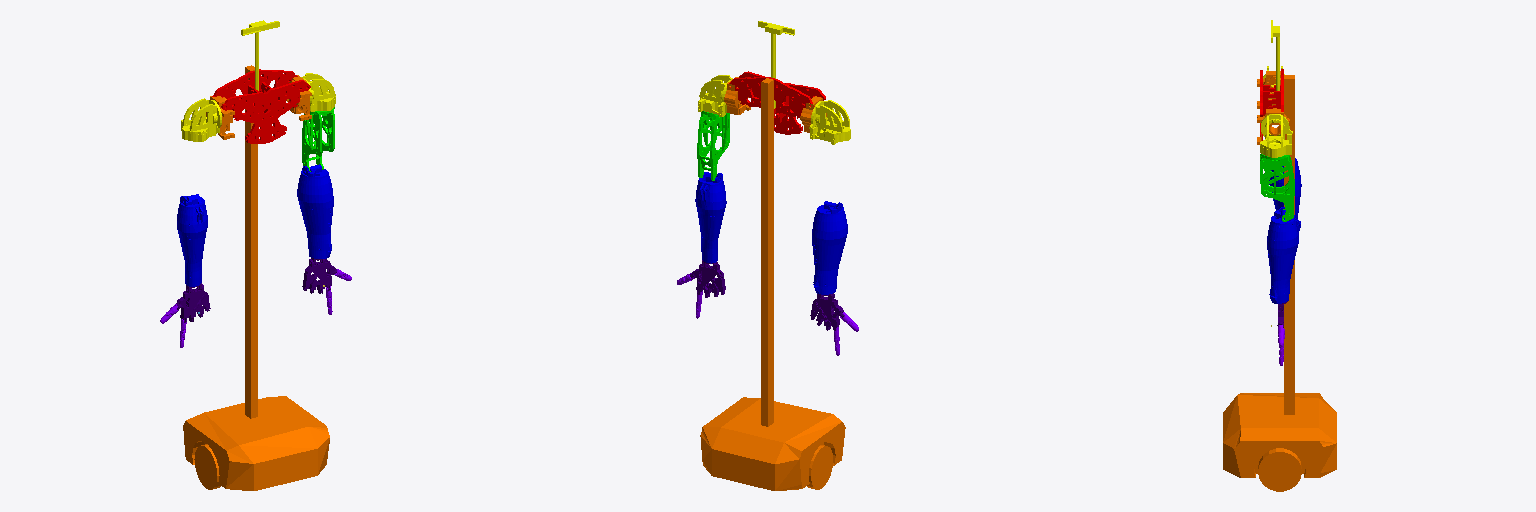
URDF robot description (robo_hand):
<?xml version="1.0" ?>
<!-- =================================================================================== -->
<!-- |    This document was autogenerated by xacro from robo_two_arms_camera.xacro     | -->
<!-- |    EDITING THIS FILE BY HAND IS NOT RECOMMENDED                                 | -->
<!-- =================================================================================== -->
<robot name="robo_hand" xmlns:xacro="http://ros.org/wiki/xacro">
  <!-- Define a number of dimensions using properties -->
  <!--property name="arm_offset_x" value="-0.143" /-->
  <!--property name="arm_offset_y" value="-0.032" /-->
  <!--property name="arm_offset_z" value="1.302" /-->
  <!-- Include all component files -->
  <!-- Materials -->
  <material name="red">
    <color rgba="1.0 0.0 0.0 0.8"/>
  </material>
  <material name="orange">
    <color rgba="1.0 0.5 0.0 0.8"/>
  </material>
  <material name="yellow">
    <color rgba="1.0 1.0 0.0 0.8"/>
  </material>
  <material name="green">
    <color rgba="0.0 1.0 0.0 0.8"/>
  </material>
  <material name="blue">
    <color rgba="0.0 0.0 1.0 0.8"/>
  </material>
  <material name="indigo">
    <color rgba="0.294 0.0 0.510 0.8"/>
  </material>
  <material name="violet">
    <color rgba="0.561 0.0 1.0 0.8"/>
  </material>
  <material name="realsensecolor">
    <color rgba="0.141 0.529 0.757 0.8"/>
  </material>
  <material name="Black">
    <color rgba="0.2 0.2 0.2 1.0"/>
  </material>
  <material name="TransparentBlack">
    <color rgba="0.2 0.2 0.2 0.8"/>
  </material>
  <material name="Orange">
    <color rgba="1.0  0.55 0.0 1.0"/>
  </material>
  <material name="Grey">
    <color rgba="0.7 0.7 0.7 1.0"/>
  </material>
  <material name="DarkGrey">
    <color rgba="0.3 0.3 0.3 1.0"/>
  </material>
  <material name="Red">
    <color rgba="0.8 0.0 0.0 1.0"/>
  </material>
  <material name="White">
    <color rgba="1.0 1.0 1.0 1.0"/>
  </material>
  <material name="OffWhite">
    <color rgba="0.8 0.8 0.8 1.0"/>
  </material>
  <material name="Blue">
    <color rgba="0.0 0.0 0.8 1.0"/>
  </material>
  <material name="Green">
    <color rgba="0.0 0.8 0.0 1.0"/>
  </material>
  <material name="TransparentGreen">
    <color rgba="0.0 0.8 0.0 0.5"/>
  </material>
  <!-- Variables  -->
  <!-- The base xacro macro -->
  <!-- Define a number of dimensions using properties -->
  <!-- Define the torso -->
  <!-- Define the camera -->
  <!-- Now we can start using the macros included above to define the actual robot -->
  <!-- Add the base and wheels -->
  <link name="base_link">
    <visual>
      <origin rpy="0 0 0" xyz="0 0 0"/>
      <geometry>
        <mesh filename="package://robo_description/meshes/base/vis/vis_basewheels_03.STL" scale="0.001 0.001 0.001"/>
      </geometry>
      <material name="orange"/>
    </visual>
    <collision>
      <origin rpy="0 0 0" xyz="0 0 0"/>
      <geometry>
        <mesh filename="package://robo_description/meshes/base/col/col_basewheels_03.STL" scale="0.001 0.001 0.001"/>
      </geometry>
    </collision>
  </link>
  <link name="base_footprint">
    <visual>
      <origin rpy="0 0 0" xyz="0 0 0"/>
      <geometry>
        <box size="0.05 0.05 0.001"/>
      </geometry>
      <material name="TransparentGreen"/>
    </visual>
  </link>
  <joint name="base_joint" type="fixed">
    <origin rpy="0 0 0" xyz="0.0 0.0 0.0"/>
    <parent link="base_footprint"/>
    <child link="base_link"/>
  </joint>
  <!-- Attach the torso -->
  <joint name="base_torso_joint" type="fixed">
    <origin rpy="0 0 0" xyz="0.0 -0.026 1.255"/>
    <parent link="base_link"/>
    <child link="torso_link"/>
  </joint>
  <link name="torso_link">
    <visual>
      <origin rpy="0 0 0" xyz="0 0 0"/>
      <geometry>
        <mesh filename="package://robo_description/meshes/torso/vis/vis_torso_03.STL" scale="0.001 0.001 0.001"/>
      </geometry>
      <material name="red"/>
    </visual>
    <collision>
      <origin rpy="0 0 0" xyz="0 0 0"/>
      <geometry>
        <mesh filename="package://robo_description/meshes/torso/col/col_torso_03.STL" scale="0.001 0.001 0.001"/>
      </geometry>
    </collision>
  </link>
  <!-- Attach the camera -->
  <joint name="torso_head_base_joint" type="fixed">
    <origin rpy="0 0 3.14159" xyz="0.0 0.0 0.0"/>
    <parent link="torso_link"/>
    <child link="head_base_link"/>
  </joint>
  <link name="head_base_link">
    <visual>
      <origin rpy="0 0 0" xyz="0 0 0"/>
      <geometry>
        <mesh filename="package://robo_description/meshes/camera/vis/vis_camera_03.STL" scale="0.001 0.001 0.001"/>
      </geometry>
      <material name="yellow"/>
    </visual>
    <collision>
      <origin rpy="0 0 0" xyz="0 0 0"/>
      <geometry>
        <mesh filename="package://robo_description/meshes/camera/col/col_camera_03.STL" scale="0.001 0.001 0.001"/>
      </geometry>
    </collision>
  </link>
  <!-- Depth and RGB frames for tf transform trees -->
  <!-- *Need to update values to reflect RealSense/arrangement -->
  <joint name="head_base_depth_joint" type="fixed">
    <origin rpy="0 0 0" xyz="0 0.0 0.268"/>
    <parent link="head_base_link"/>
    <child link="head_base_depth_frame"/>
  </joint>
  <link name="head_base_depth_frame">
    <inertial>
      <mass value="0.000001"/>
      <origin xyz="0 0 0"/>
      <inertia ixx="0.0001" ixy="0.0" ixz="0.0" iyy="0.0001" iyz="0.0" izz="0.0001"/>
    </inertial>
  </link>
  <joint name="head_base_depth_optical_joint" type="fixed">
    <origin rpy="-1.570795 0 -1.570795" xyz="0 0 0"/>
    <parent link="head_base_depth_frame"/>
    <child link="head_base_depth_optical_frame"/>
  </joint>
  <link name="head_base_depth_optical_frame">
    <inertial>
      <mass value="0.000001"/>
      <origin xyz="0 0 0"/>
      <inertia ixx="0.0001" ixy="0.0" ixz="0.0" iyy="0.0001" iyz="0.0" izz="0.0001"/>
    </inertial>
  </link>
  <joint name="head_base_rgb_joint" type="fixed">
    <origin rpy="0 0 0" xyz="0.05 0 0.268"/>
    <parent link="head_base_link"/>
    <child link="head_base_rgb_frame"/>
  </joint>
  <link name="head_base_rgb_frame">
    <inertial>
      <mass value="0.000001"/>
      <origin xyz="0 0 0"/>
      <inertia ixx="0.0001" ixy="0.0" ixz="0.0" iyy="0.0001" iyz="0.0" izz="0.0001"/>
    </inertial>
  </link>
  <joint name="head_base_rgb_optical_joint" type="fixed">
    <origin rpy="-1.570795 0 -1.570795" xyz="0 0 0"/>
    <parent link="head_base_rgb_frame"/>
    <child link="head_base_rgb_optical_frame"/>
  </joint>
  <link name="head_base_rgb_optical_frame">
    <inertial>
      <mass value="0.000001"/>
      <origin xyz="0 0 0"/>
      <inertia ixx="0.0001" ixy="0.0" ixz="0.0" iyy="0.0001" iyz="0.0" izz="0.0001"/>
    </inertial>
  </link>
  <!-- Attach the right arm -->
  <!-- arm base joint -->
  <link name="right_arm_base_link"/>
  <joint name="right_arm_base_joint" type="fixed">
    <origin rpy="0 0 0" xyz="-0.143 0.0055 0.047"/>
    <parent link="torso_link"/>
    <child link="right_arm_base_link"/>
  </joint>
  <!-- Shoulder_A -->
  <link name="right_arm_shouldera_link">
    <visual>
      <origin rpy="0 0 0" xyz="0 0 0"/>
      <geometry>
        <mesh filename="package://robo_description/meshes/arm/vis/vis_right_shouldera_03.STL" scale="0.001 0.001 0.001"/>
      </geometry>
      <material name="orange"/>
    </visual>
    <collision>
      <origin rpy="0 0 0" xyz="0 0 0"/>
      <geometry>
        <mesh filename="package://robo_description/meshes/arm/col/col_right_shouldera_03.STL" scale="0.001 0.001 0.001"/>
      </geometry>
    </collision>
  </link>
  <joint name="right_arm_out_joint" type="revolute">
    <axis xyz="0 1.0 0"/>
    <origin rpy="0 0 0" xyz="0 0 0"/>
    <limit effort="1000.0" lower="0.0" upper="1.5707963" velocity="0.5"/>
    <parent link="right_arm_base_link"/>
    <child link="right_arm_shouldera_link"/>
  </joint>
  <!-- Shoulder_B -->
  <link name="right_arm_shoulderb_link">
    <visual>
      <origin rpy="0 0 0" xyz="0 0 0"/>
      <geometry>
        <mesh filename="package://robo_description/meshes/arm/vis/vis_right_shoulderb_03.STL" scale="0.001 0.001 0.001"/>
      </geometry>
      <material name="yellow"/>
    </visual>
    <collision>
      <origin rpy="0 0 0" xyz="0 0 0"/>
      <geometry>
        <mesh filename="package://robo_description/meshes/arm/col/col_right_shoulderb_03.STL" scale="0.001 0.001 0.001"/>
      </geometry>
    </collision>
  </link>
  <joint name="right_arm_fwd_joint" type="revolute">
    <axis xyz="-1 0 0"/>
    <origin rpy="0 0 0" xyz="-0.012 0.005 -0.04"/>
    <limit effort="1000.0" lower="0.0" upper="1.570795" velocity="0.5"/>
    <parent link="right_arm_shouldera_link"/>
    <child link="right_arm_shoulderb_link"/>
  </joint>
  <!-- Biceps -->
  <link name="right_arm_biceps_link">
    <visual>
      <origin rpy="0 0 0" xyz="0 0 0"/>
      <geometry>
        <mesh filename="package://robo_description/meshes/arm/vis/vis_right_biceps_03.STL" scale="0.001 0.001 0.001"/>
      </geometry>
      <material name="green"/>
    </visual>
    <collision>
      <origin rpy="0 0 0" xyz="0 0 0"/>
      <geometry>
        <mesh filename="package://robo_description/meshes/arm/col/col_right_biceps_03.STL" scale="0.001 0.001 0.001"/>
      </geometry>
    </collision>
  </link>
  <joint name="right_arm_rotate_joint" type="revolute">
    <axis xyz="0 0 -1"/>
    <origin rpy="0 0 0" xyz="-0.06 0 -0.059"/>
    <limit effort="1000.0" lower="-1.570795" upper="1.570795" velocity="0.5"/>
    <parent link="right_arm_shoulderb_link"/>
    <child link="right_arm_biceps_link"/>
  </joint>
  <!-- Forearm -->
  <link name="right_arm_forearm_link">
    <visual>
      <origin rpy="0 0 0" xyz="0 0 0"/>
      <geometry>
        <mesh filename="package://robo_description/meshes/arm/vis/vis_right_forearm_03.STL" scale="0.001 0.001 0.001"/>
      </geometry>
      <material name="blue"/>
    </visual>
    <collision>
      <origin rpy="0 0 0" xyz="0 0 0"/>
      <geometry>
        <mesh filename="package://robo_description/meshes/arm/col/col_right_forearm_03.STL" scale="0.001 0.001 0.001"/>
      </geometry>
    </collision>
  </link>
  <joint name="right_elbow_joint" type="revolute">
    <axis xyz="-1 0 0"/>
    <origin rpy="0 0 0" xyz="0 0.029 -0.225"/>
    <limit effort="1000.0" lower="0.0" upper="1.570795" velocity="0.5"/>
    <parent link="right_arm_biceps_link"/>
    <child link="right_arm_forearm_link"/>
  </joint>
  <!-- Wrist/Hand -->
  <link name="right_arm_wrist_link">
    <visual>
      <origin rpy="0 0 0" xyz="0 0 0"/>
      <geometry>
        <mesh filename="package://robo_description/meshes/arm/vis/vis_right_hand_03.STL" scale="0.001 0.001 0.001"/>
      </geometry>
      <material name="indigo"/>
    </visual>
    <collision>
      <origin rpy="0 0 0" xyz="0 0 0"/>
      <geometry>
        <mesh filename="package://robo_description/meshes/arm/col/col_right_hand_03.STL" scale="0.001 0.001 0.001"/>
      </geometry>
    </collision>
  </link>
  <joint name="right_wrist_joint" type="revolute">
    <axis xyz="0 0 1.0"/>
    <!--origin rpy="0 0 0" xyz=".009972 .012326 -.288718"/-->
    <origin rpy="0 0 0" xyz="0.008 0.01 -0.2888"/>
    <limit effort="1000.0" lower="0.0" upper="3.14159" velocity="0.5"/>
    <parent link="right_arm_forearm_link"/>
    <child link="right_arm_wrist_link"/>
  </joint>
  <!-- Attach the right gripper -->
  <!-- gripper base joint -->
  <link name="right_gripper_base_link"/>
  <joint name="right_gripper_base_joint" type="fixed">
    <origin rpy="0 0 0" xyz="0 0 0"/>
    <parent link="right_arm_wrist_link"/>
    <child link="right_gripper_base_link"/>
  </joint>
  <!-- Index -->
  <link name="right_gripper_index_link">
    <inertial>
      <mass value="0.00001"/>
      <origin xyz="0 0 0"/>
      <inertia ixx="1.0" ixy="0.0" ixz="0.0" iyy="1.0" iyz="0.0" izz="1.0"/>
    </inertial>
    <visual>
      <origin rpy="0 0 0" xyz="0 0 0"/>
      <geometry>
        <mesh filename="package://robo_description/meshes/arm/vis/vis_right_index_03.STL" scale="0.001 0.001 0.001"/>
      </geometry>
      <material name="violet"/>
    </visual>
    <collision>
      <origin rpy="0 0 0" xyz="0 0 0"/>
      <geometry>
        <mesh filename="package://robo_description/meshes/arm/col/col_right_index_03.STL" scale="0.001 0.001 0.001"/>
      </geometry>
    </collision>
  </link>
  <joint name="right_gripper_index_joint" type="revolute">
    <origin rpy="0 0 0" xyz="-0.034 0 -0.119"/>
    <axis xyz="-1 0 0"/>
    <limit effort="1.0" lower="0.0" upper="1.570795" velocity="3.14"/>
    <parent link="right_gripper_base_link"/>
    <child link="right_gripper_index_link"/>
  </joint>
  <!-- Thumb -->
  <link name="right_gripper_thumb_link">
    <inertial>
      <mass value="0.00001"/>
      <origin xyz="0 0 0"/>
      <inertia ixx="1.0" ixy="0.0" ixz="0.0" iyy="1.0" iyz="0.0" izz="1.0"/>
    </inertial>
    <visual>
      <origin rpy="0 0 0" xyz="0 0 0"/>
      <geometry>
        <mesh filename="package://robo_description/meshes/arm/vis/vis_right_thumb_03.STL" scale="0.001 0.001 0.001"/>
      </geometry>
      <material name="violet"/>
    </visual>
    <collision>
      <origin rpy="0 0 0" xyz="0 0 0"/>
      <geometry>
        <mesh filename="package://robo_description/meshes/arm/col/col_right_thumb_03.STL" scale="0.001 0.001 0.001"/>
      </geometry>
    </collision>
  </link>
  <joint name="right_gripper_thumb_joint" type="revolute">
    <origin rpy="0 0 0" xyz="-0.06 0 -0.0685"/>
    <axis xyz="0 0 1.0"/>
    <limit effort="1.0" lower="0.0" upper="1.570795" velocity="3.14"/>
    <parent link="right_gripper_base_link"/>
    <child link="right_gripper_thumb_link"/>
  </joint>
  <!-- Fake gripper link and joint for grasp planning -->
  <link name="right_gripper_link">
    <visual>
      <origin rpy="0 0 0" xyz="0 0 0"/>
      <geometry>
        <box size="0.005 0.005 0.005"/>
      </geometry>
    </visual>
    <collision>
      <origin rpy="0 0 0" xyz="0 0 0"/>
      <geometry>
        <box size="0.005 0.005 0.005"/>
      </geometry>
    </collision>
  </link>
  <joint name="right_gripper_joint" type="fixed">
    <origin rpy="-1.570795 0 0" xyz="0 -0.03 -0.09"/>
    <parent link="right_gripper_base_link"/>
    <child link="right_gripper_link"/>
  </joint>
  <!-- Attach the left arm -->
  <!-- arm base joint -->
  <link name="left_arm_base_link"/>
  <joint name="left_arm_base_joint" type="fixed">
    <origin rpy="0 0 0" xyz="0.143 0.0055 0.047"/>
    <parent link="torso_link"/>
    <child link="left_arm_base_link"/>
  </joint>
  <!-- Shoulder_A -->
  <link name="left_arm_shouldera_link">
    <visual>
      <origin rpy="0 0 0" xyz="0 0 0"/>
      <geometry>
        <mesh filename="package://robo_description/meshes/arm/vis/vis_left_shouldera_03.STL" scale="0.001 0.001 0.001"/>
      </geometry>
      <material name="orange"/>
    </visual>
    <collision>
      <origin rpy="0 0 0" xyz="0 0 0"/>
      <geometry>
        <mesh filename="package://robo_description/meshes/arm/col/col_left_shouldera_03.STL" scale="0.001 0.001 0.001"/>
      </geometry>
    </collision>
  </link>
  <joint name="left_arm_out_joint" type="revolute">
    <axis xyz="0 -1.0 0"/>
    <origin rpy="0 0 0" xyz="0 0 0"/>
    <limit effort="1000.0" lower="0.0" upper="1.5707963" velocity="0.5"/>
    <parent link="left_arm_base_link"/>
    <child link="left_arm_shouldera_link"/>
  </joint>
  <!-- Shoulder_B -->
  <link name="left_arm_shoulderb_link">
    <visual>
      <origin rpy="0 0 0" xyz="0 0 0"/>
      <geometry>
        <mesh filename="package://robo_description/meshes/arm/vis/vis_left_shoulderb_03.STL" scale="0.001 0.001 0.001"/>
      </geometry>
      <material name="yellow"/>
    </visual>
    <collision>
      <origin rpy="0 0 0" xyz="0 0 0"/>
      <geometry>
        <mesh filename="package://robo_description/meshes/arm/col/col_left_shoulderb_03.STL" scale="0.001 0.001 0.001"/>
      </geometry>
    </collision>
  </link>
  <joint name="left_arm_fwd_joint" type="revolute">
    <axis xyz="-1 0 0"/>
    <origin rpy="0 0 0" xyz="0.012 0.005 -0.04"/>
    <limit effort="1000.0" lower="0.0" upper="1.570795" velocity="0.5"/>
    <parent link="left_arm_shouldera_link"/>
    <child link="left_arm_shoulderb_link"/>
  </joint>
  <!-- Biceps -->
  <link name="left_arm_biceps_link">
    <visual>
      <origin rpy="0 0 0" xyz="0 0 0"/>
      <geometry>
        <mesh filename="package://robo_description/meshes/arm/vis/vis_left_biceps_03.STL" scale="0.001 0.001 0.001"/>
      </geometry>
      <material name="green"/>
    </visual>
    <collision>
      <origin rpy="0 0 0" xyz="0 0 0"/>
      <geometry>
        <mesh filename="package://robo_description/meshes/arm/col/col_left_biceps_03.STL" scale="0.001 0.001 0.001"/>
      </geometry>
    </collision>
  </link>
  <joint name="left_arm_rotate_joint" type="revolute">
    <axis xyz="0 0 1"/>
    <origin rpy="0 0 0" xyz="0.06 0 -0.059"/>
    <limit effort="1000.0" lower="-1.570795" upper="1.570795" velocity="0.5"/>
    <parent link="left_arm_shoulderb_link"/>
    <child link="left_arm_biceps_link"/>
  </joint>
  <!-- Forearm -->
  <link name="left_arm_forearm_link">
    <visual>
      <origin rpy="0 0 0" xyz="0 0 0"/>
      <geometry>
        <mesh filename="package://robo_description/meshes/arm/vis/vis_left_forearm_03.STL" scale="0.001 0.001 0.001"/>
      </geometry>
      <material name="blue"/>
    </visual>
    <collision>
      <origin rpy="0 0 0" xyz="0 0 0"/>
      <geometry>
        <mesh filename="package://robo_description/meshes/arm/col/col_left_forearm_03.STL" scale="0.001 0.001 0.001"/>
      </geometry>
    </collision>
  </link>
  <joint name="left_elbow_joint" type="revolute">
    <axis xyz="-1 0 0"/>
    <origin rpy="0 0 0" xyz="0 0.029 -0.225"/>
    <limit effort="1000.0" lower="0.0" upper="1.570795" velocity="0.5"/>
    <parent link="left_arm_biceps_link"/>
    <child link="left_arm_forearm_link"/>
  </joint>
  <!-- Wrist/Hand -->
  <link name="left_arm_wrist_link">
    <visual>
      <origin rpy="0 0 0" xyz="0 0 0"/>
      <geometry>
        <mesh filename="package://robo_description/meshes/arm/vis/vis_left_hand_03.STL" scale="0.001 0.001 0.001"/>
      </geometry>
      <material name="indigo"/>
    </visual>
    <collision>
      <origin rpy="0 0 0" xyz="0 0 0"/>
      <geometry>
        <mesh filename="package://robo_description/meshes/arm/col/col_left_hand_03.STL" scale="0.001 0.001 0.001"/>
      </geometry>
    </collision>
  </link>
  <joint name="left_wrist_joint" type="revolute">
    <axis xyz="0 0 -1.0"/>
    <!--origin rpy="0 0 0" xyz=".009972 .012326 -.288718"/-->
    <origin rpy="0 0 0" xyz="0.008 -0.01 -0.2888"/>
    <limit effort="1000.0" lower="0.0" upper="3.14159" velocity="0.5"/>
    <parent link="left_arm_forearm_link"/>
    <child link="left_arm_wrist_link"/>
  </joint>
  <!-- Attach the left gripper -->
  <!-- gripper base joint -->
  <link name="left_gripper_base_link"/>
  <joint name="left_gripper_base_joint" type="fixed">
    <origin rpy="0 0 0" xyz="0 0 0"/>
    <parent link="left_arm_wrist_link"/>
    <child link="left_gripper_base_link"/>
  </joint>
  <!-- Index -->
  <link name="left_gripper_index_link">
    <inertial>
      <mass value="0.00001"/>
      <origin xyz="0 0 0"/>
      <inertia ixx="1.0" ixy="0.0" ixz="0.0" iyy="1.0" iyz="0.0" izz="1.0"/>
    </inertial>
    <visual>
      <origin rpy="0 0 0" xyz="0 0 0"/>
      <geometry>
        <mesh filename="package://robo_description/meshes/arm/vis/vis_left_index_03.STL" scale="0.001 0.001 0.001"/>
      </geometry>
      <material name="violet"/>
    </visual>
    <collision>
      <origin rpy="0 0 0" xyz="0 0 0"/>
      <geometry>
        <mesh filename="package://robo_description/meshes/arm/col/col_left_index_03.STL" scale="0.001 0.001 0.001"/>
      </geometry>
    </collision>
  </link>
  <joint name="left_gripper_index_joint" type="revolute">
    <origin rpy="0 0 0" xyz="0.034 0 -0.119"/>
    <axis xyz="-1 0 0"/>
    <limit effort="1.0" lower="0.0" upper="1.570795" velocity="3.14"/>
    <parent link="left_gripper_base_link"/>
    <child link="left_gripper_index_link"/>
  </joint>
  <!-- Thumb -->
  <link name="left_gripper_thumb_link">
    <inertial>
      <mass value="0.00001"/>
      <origin xyz="0 0 0"/>
      <inertia ixx="1.0" ixy="0.0" ixz="0.0" iyy="1.0" iyz="0.0" izz="1.0"/>
    </inertial>
    <visual>
      <origin rpy="0 0 0" xyz="0 0 0"/>
      <geometry>
        <mesh filename="package://robo_description/meshes/arm/vis/vis_left_thumb_03.STL" scale="0.001 0.001 0.001"/>
      </geometry>
      <material name="violet"/>
    </visual>
    <collision>
      <origin rpy="0 0 0" xyz="0 0 0"/>
      <geometry>
        <mesh filename="package://robo_description/meshes/arm/col/col_left_thumb_03.STL" scale="0.001 0.001 0.001"/>
      </geometry>
    </collision>
  </link>
  <joint name="left_gripper_thumb_joint" type="revolute">
    <origin rpy="0 0 0" xyz="0.06 0 -0.0685"/>
    <axis xyz="0 0 -1.0"/>
    <limit effort="1.0" lower="0.0" upper="1.570795" velocity="3.14"/>
    <parent link="left_gripper_base_link"/>
    <child link="left_gripper_thumb_link"/>
  </joint>
  <!-- Fake gripper link and joint for grasp planning -->
  <link name="left_gripper_link">
    <visual>
      <origin rpy="0 0 0" xyz="0 0 0"/>
      <geometry>
        <box size="0.005 0.005 0.005"/>
      </geometry>
    </visual>
    <collision>
      <origin rpy="0 0 0" xyz="0 0 0"/>
      <geometry>
        <box size="0.005 0.005 0.005"/>
      </geometry>
    </collision>
  </link>
  <joint name="left_gripper_joint" type="fixed">
    <origin rpy="-1.570795 0 0" xyz="0 -0.03 -0.09"/>
    <parent link="left_gripper_base_link"/>
    <child link="left_gripper_link"/>
  </joint>
</robot>

--- Render facts (derived) ---
3 views of the same robot in one strip: view 1: azimuth 30°, elevation 25°; view 2: azimuth 150°, elevation 25°; view 3: azimuth 270°, elevation 25° (orthographic).
Model robo_hand with 28 links and 27 joints (14 revolute, 13 fixed), rooted at base_footprint, posed all joints at 0.
Links seen in each view (by area): view 1: base_link, torso_link, left_arm_forearm_link, right_arm_forearm_link, left_arm_biceps_link, right_arm_shoulderb_link, left_arm_shoulderb_link, right_arm_wrist_link, left_arm_wrist_link, head_base_link; view 2: base_link, right_arm_forearm_link, torso_link, left_arm_forearm_link, left_arm_biceps_link, right_arm_shoulderb_link, left_arm_shoulderb_link, left_arm_wrist_link, right_arm_wrist_link, head_base_link; view 3: base_link, left_arm_forearm_link, left_arm_biceps_link, left_arm_shoulderb_link, torso_link.
Boxes of the visible links, x1=… form: base_link: x1=183, y1=65, x2=329, y2=490; torso_link: x1=212, y1=69, x2=310, y2=143; left_arm_forearm_link: x1=297, y1=164, x2=333, y2=258; right_arm_forearm_link: x1=177, y1=194, x2=207, y2=286; left_arm_biceps_link: x1=302, y1=107, x2=334, y2=171; right_arm_shoulderb_link: x1=181, y1=98, x2=221, y2=141; left_arm_shoulderb_link: x1=301, y1=73, x2=335, y2=111; right_arm_wrist_link: x1=176, y1=283, x2=210, y2=322; left_arm_wrist_link: x1=302, y1=258, x2=336, y2=293; head_base_link: x1=241, y1=20, x2=279, y2=90; base_link: x1=700, y1=78, x2=845, y2=490; right_arm_forearm_link: x1=812, y1=201, x2=847, y2=294; torso_link: x1=729, y1=71, x2=825, y2=134; left_arm_forearm_link: x1=695, y1=172, x2=726, y2=263; left_arm_biceps_link: x1=697, y1=111, x2=729, y2=180; right_arm_shoulderb_link: x1=809, y1=100, x2=850, y2=144; left_arm_shoulderb_link: x1=698, y1=75, x2=732, y2=116; left_arm_wrist_link: x1=690, y1=260, x2=725, y2=297; right_arm_wrist_link: x1=810, y1=293, x2=843, y2=330; head_base_link: x1=758, y1=21, x2=794, y2=108; base_link: x1=1223, y1=75, x2=1336, y2=491; left_arm_forearm_link: x1=1267, y1=207, x2=1300, y2=303; left_arm_biceps_link: x1=1260, y1=154, x2=1294, y2=221; left_arm_shoulderb_link: x1=1260, y1=114, x2=1292, y2=157; torso_link: x1=1260, y1=69, x2=1283, y2=140.
Bounding box of the posed robot: 0.6635 × 0.3608 × 1.53 m (x, y, z).
16 mesh visuals loaded from 17 distinct referenced files (16 binary STL); not drawn: 1 (reference not matched to a file when rendering).